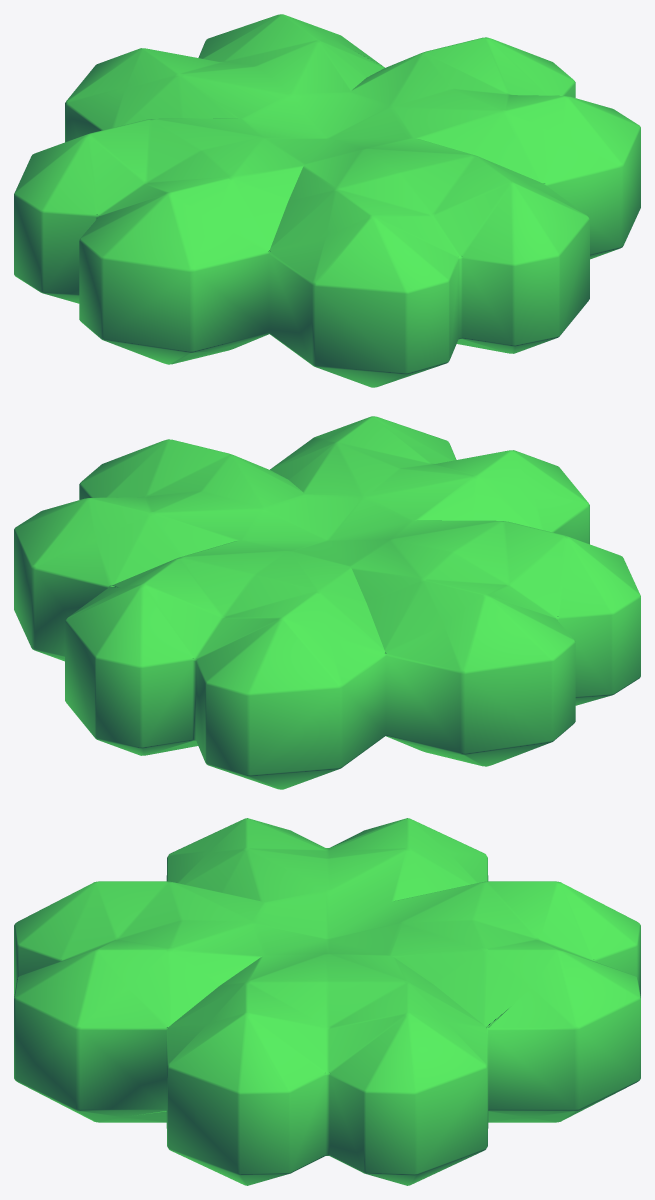
The model's file is clover2.glb.
3 views of the same model, one above another, from view 1: azimuth 30°, elevation 25°; view 2: azimuth 150°, elevation 25°; view 3: azimuth 270°, elevation 25° (orthographic).
Parts seen in each view (by area): view 1: Boole.001; view 2: Boole.001; view 3: Boole.001.
Boxes of the visible parts, x1=… form: Boole.001: x1=14, y1=14, x2=640, y2=387; Boole.001: x1=14, y1=416, x2=640, y2=789; Boole.001: x1=14, y1=818, x2=640, y2=1185.
Size of the model in its own units: 98.72 by 30.08 by 98.72.
